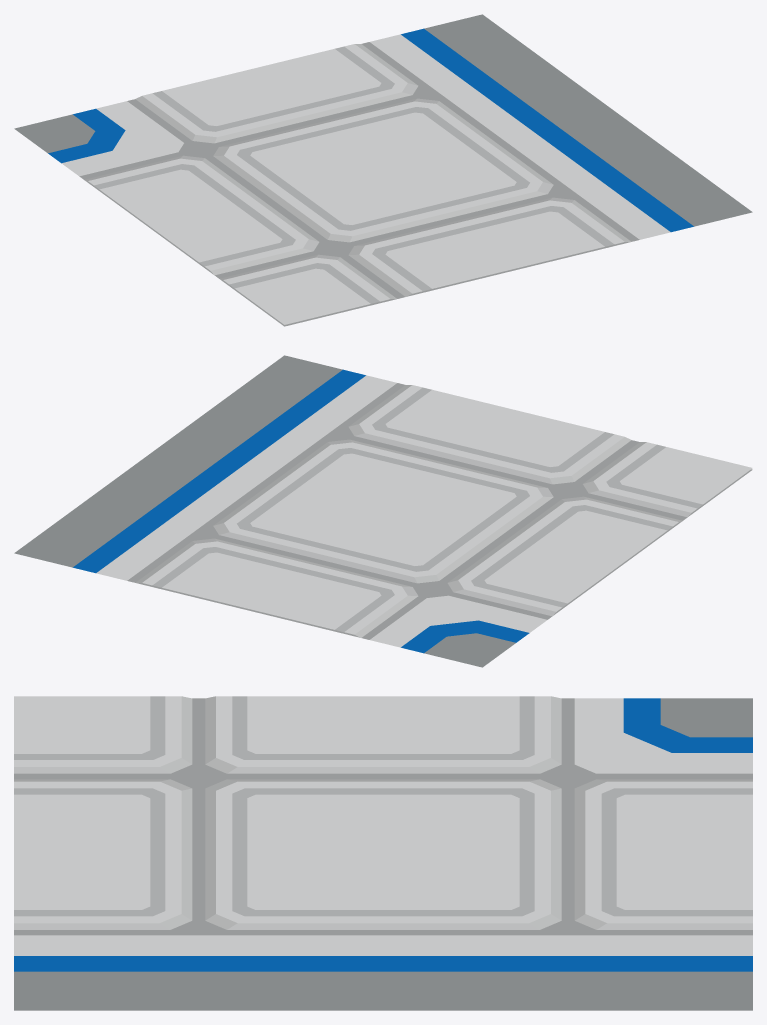
Rendered from Floor_type_A_032.fbx.
3 renders of one model, top to bottom at view 1: azimuth 30°, elevation 25°; view 2: azimuth 150°, elevation 25°; view 3: azimuth 270°, elevation 25°, orthographic. The views are drawn at different scales.
Parts seen in each view (by area): view 1: Floor_type_A_032; view 2: Floor_type_A_032; view 3: Floor_type_A_032.
Part boxes in pixels (x1,y1,x2,y2): Floor_type_A_032: [14, 14, 752, 326]; Floor_type_A_032: [14, 355, 752, 667]; Floor_type_A_032: [14, 696, 752, 1010].
Bounding box in the file's own units: 400 × 400 × 1.34.
